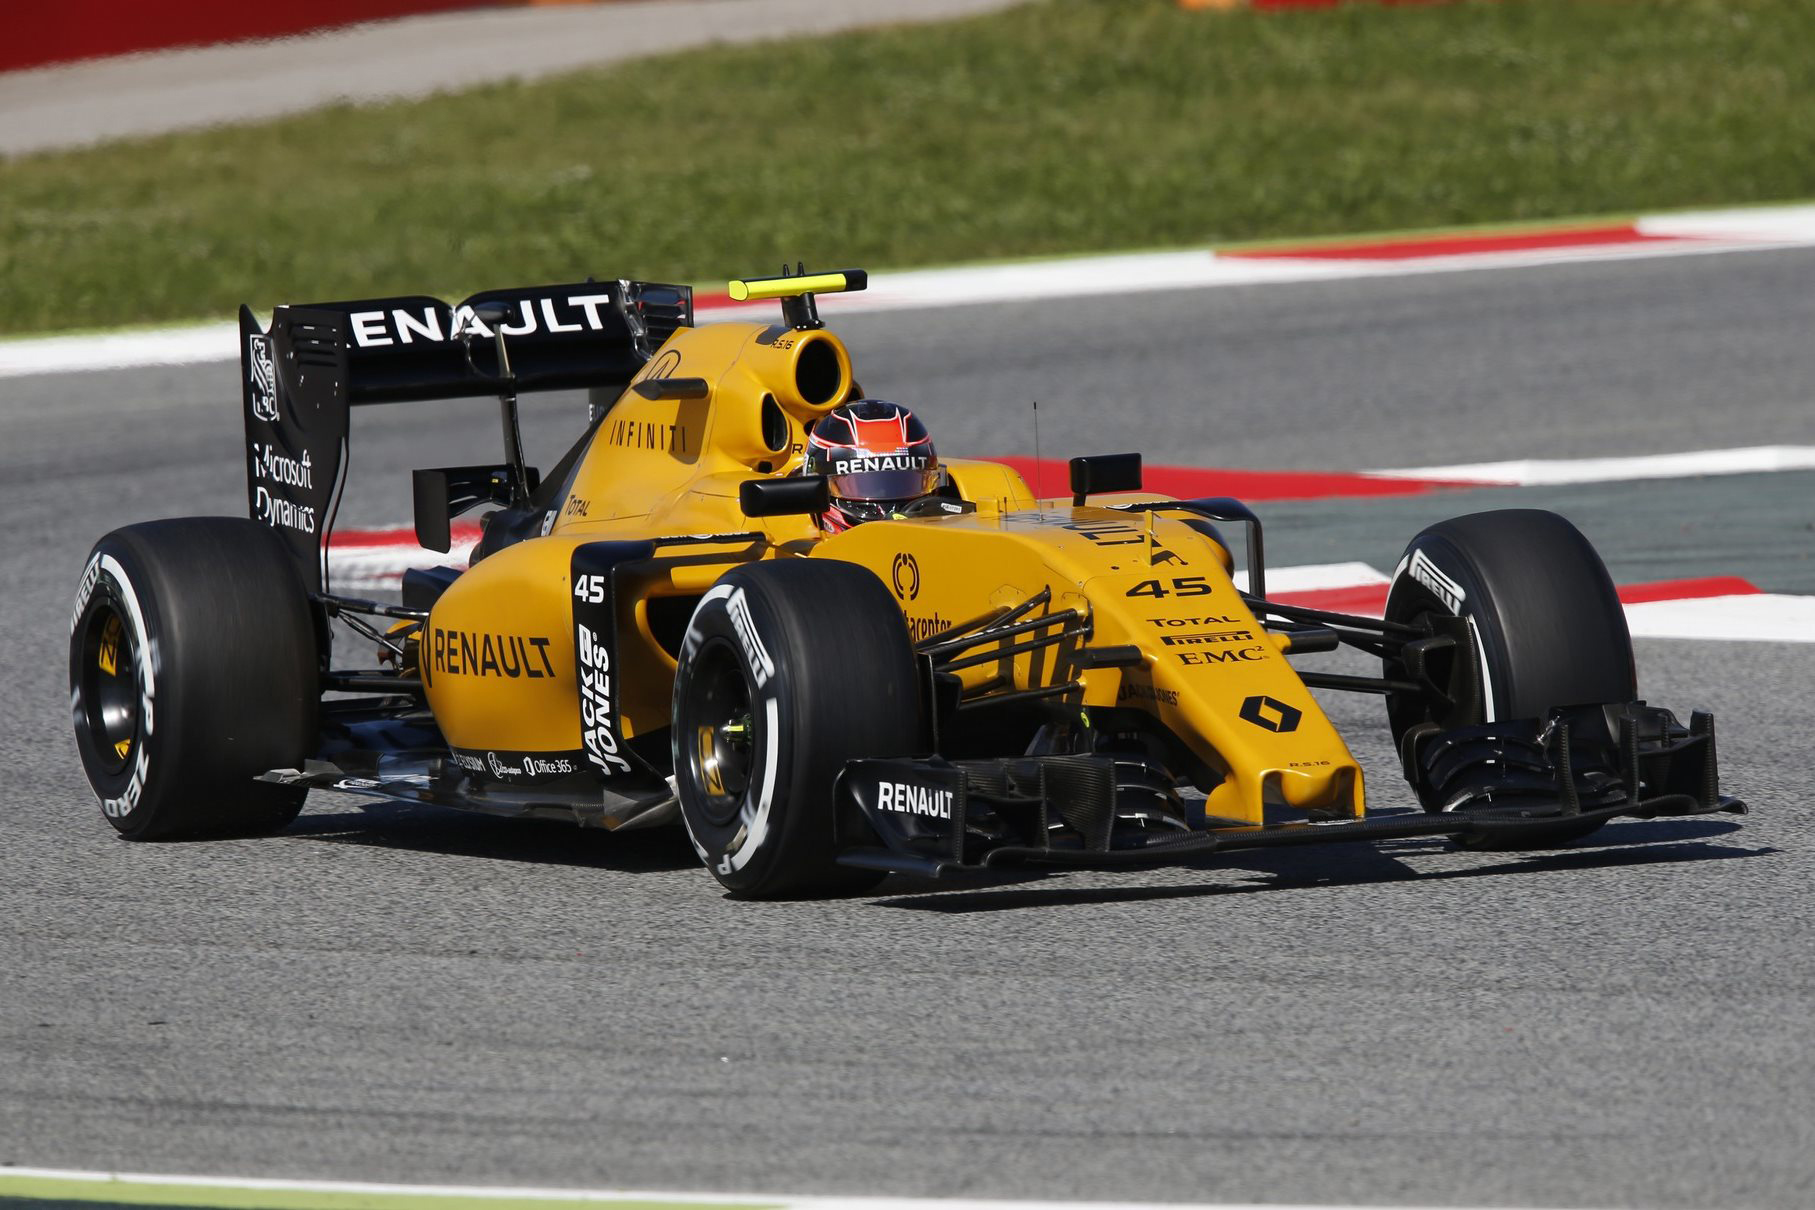F1 Car: (54, 261, 1756, 899)
